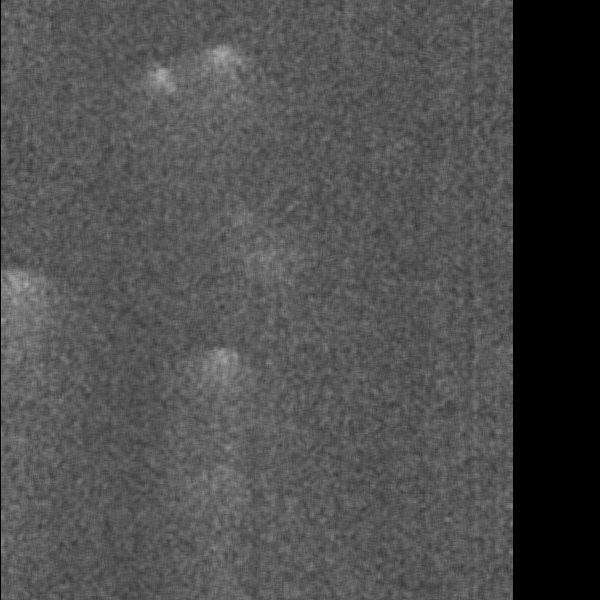spark: (199, 41, 243, 94), (140, 60, 182, 115), (206, 342, 238, 392), (1, 268, 31, 297)
